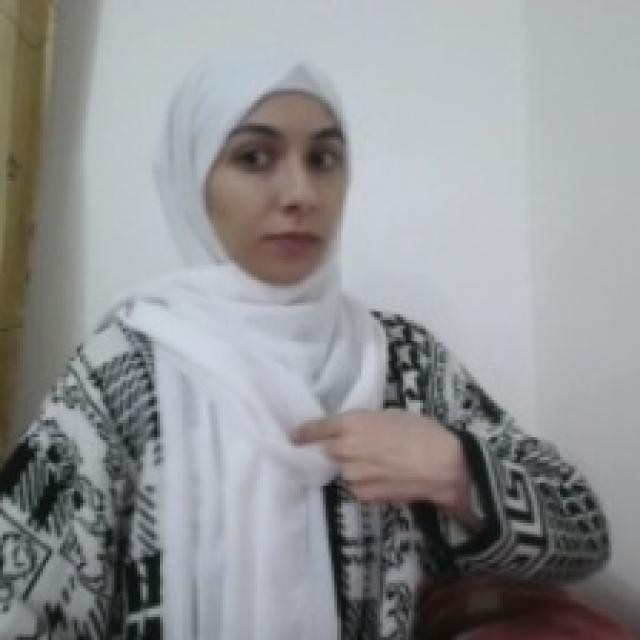me: (278, 403, 470, 518)
